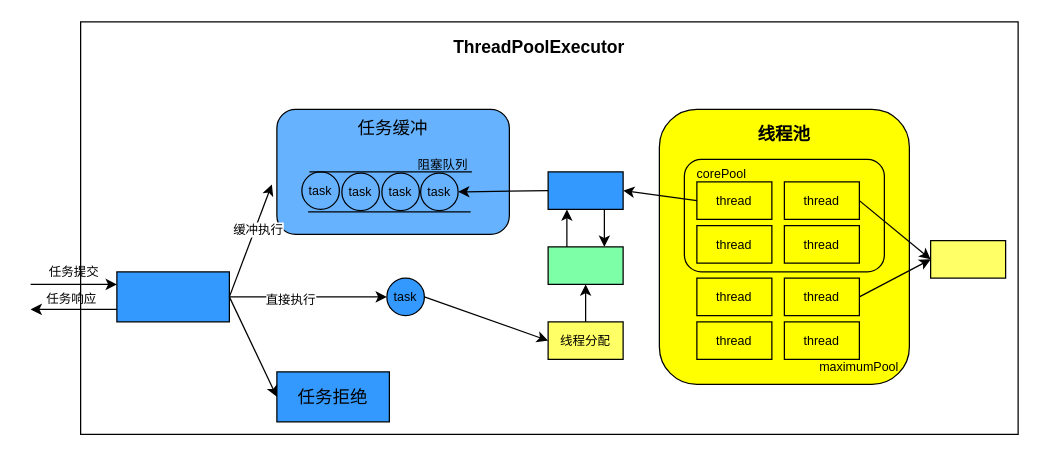
The diagram is 1040 pixels wide and 456 high, and some of its shapes have lost their labels. The shapes that lost their labels are listed below. From the top down, each one's centre as x and y in pixels, then its label:
the point at 585,190: 任务获取
the point at 585,265: 线程执行任务
the point at 967,258: 线程回收
the point at 172,296: 任务分配
